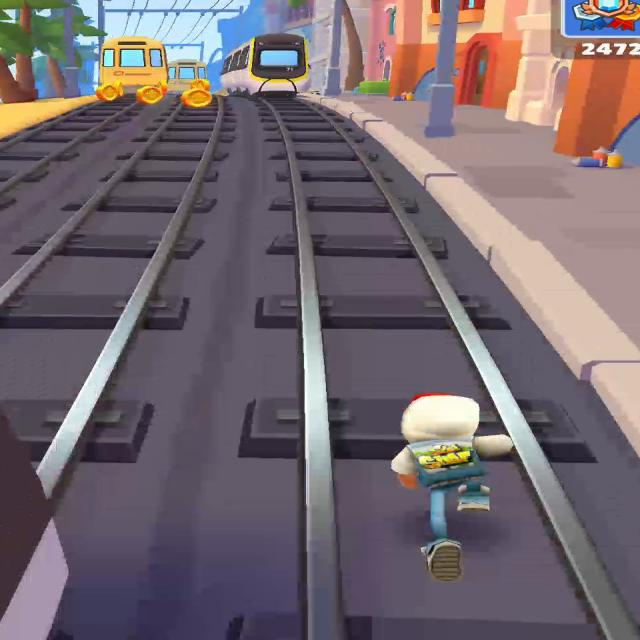train: (0, 416, 67, 640), (220, 33, 310, 97), (97, 36, 168, 99), (168, 59, 207, 92)
